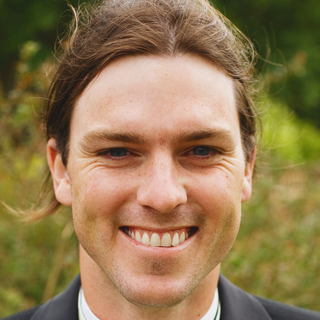eye: (175, 141, 227, 162), (92, 143, 142, 164)
